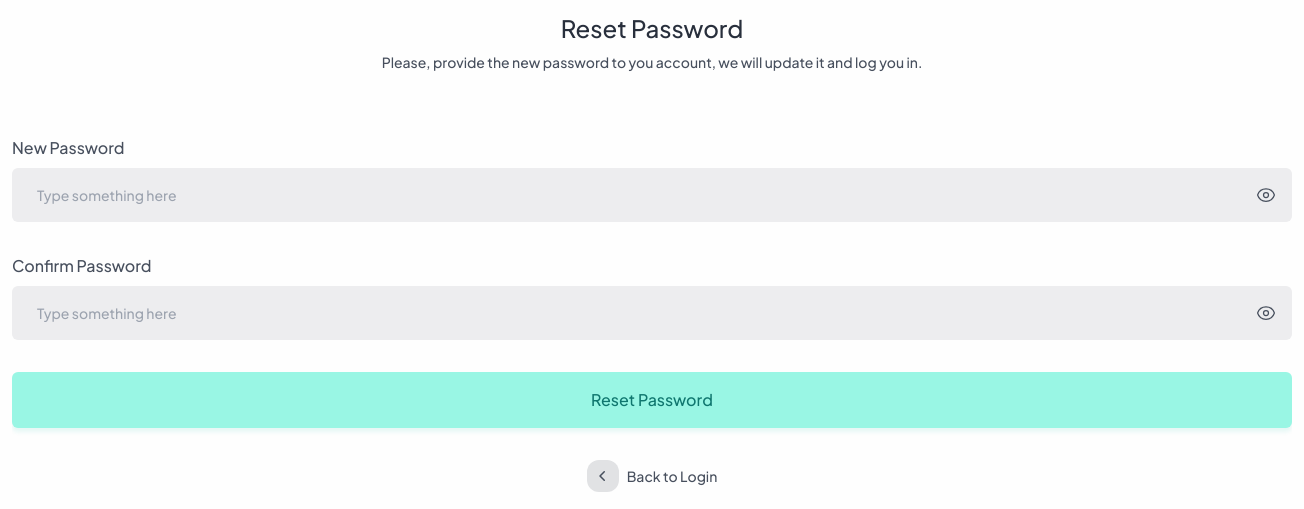
Scenario: Rendering › should render the success component after successfull form submission
Type "password123" into the password field labelled "New Password" at point(652, 195), box [12, 168, 1292, 222]
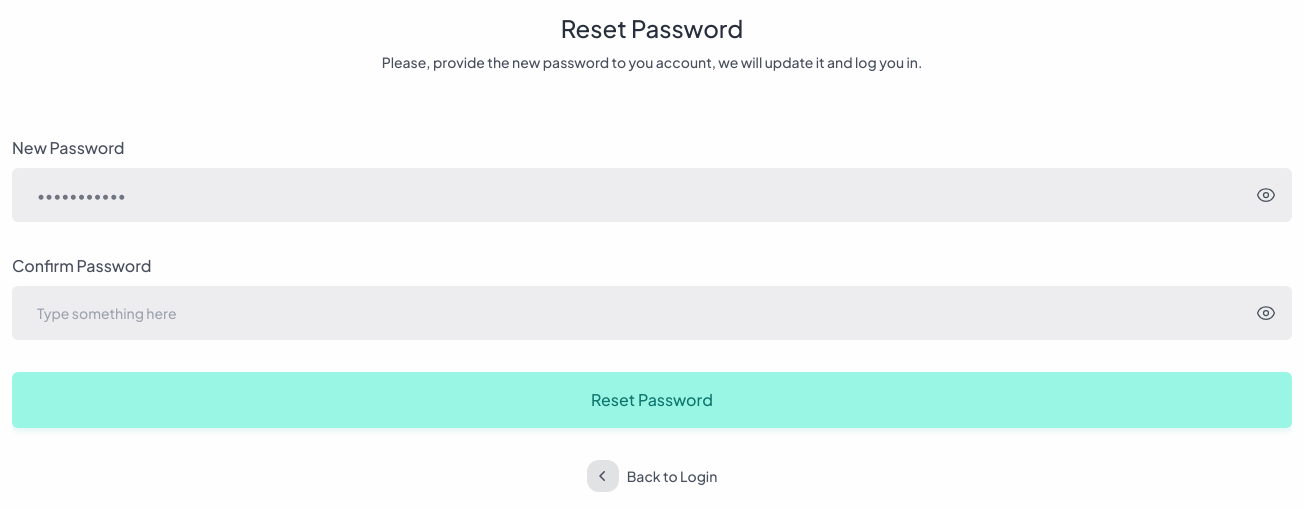
Type "password123" into the password field labelled "Confirm Password" at point(652, 313), box [12, 286, 1292, 340]
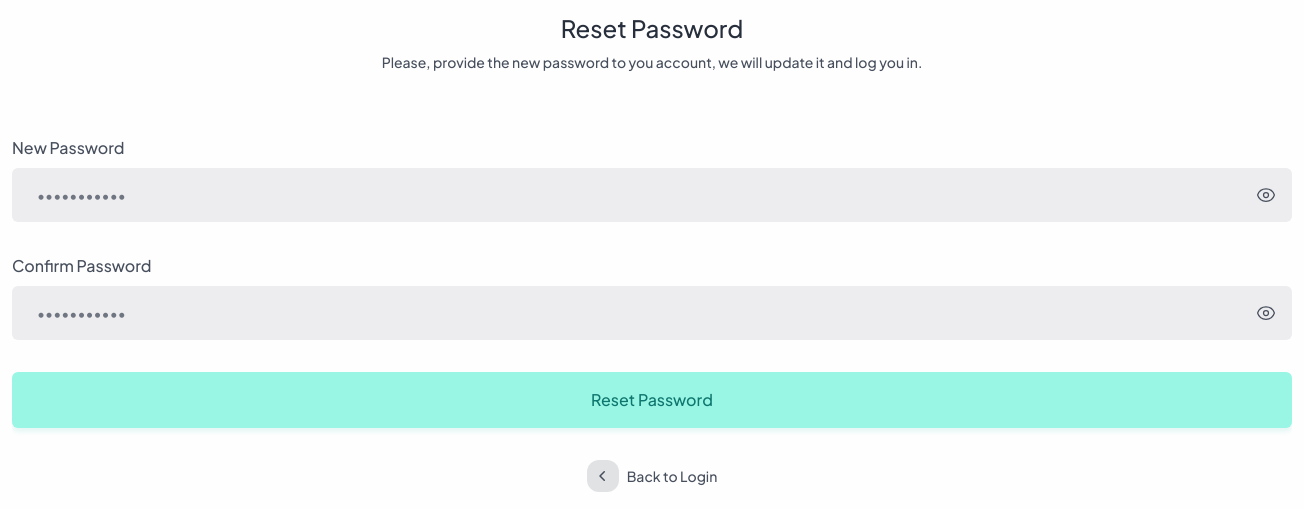
Click the button "Reset Password" at point(652, 400), box [12, 372, 1292, 428]
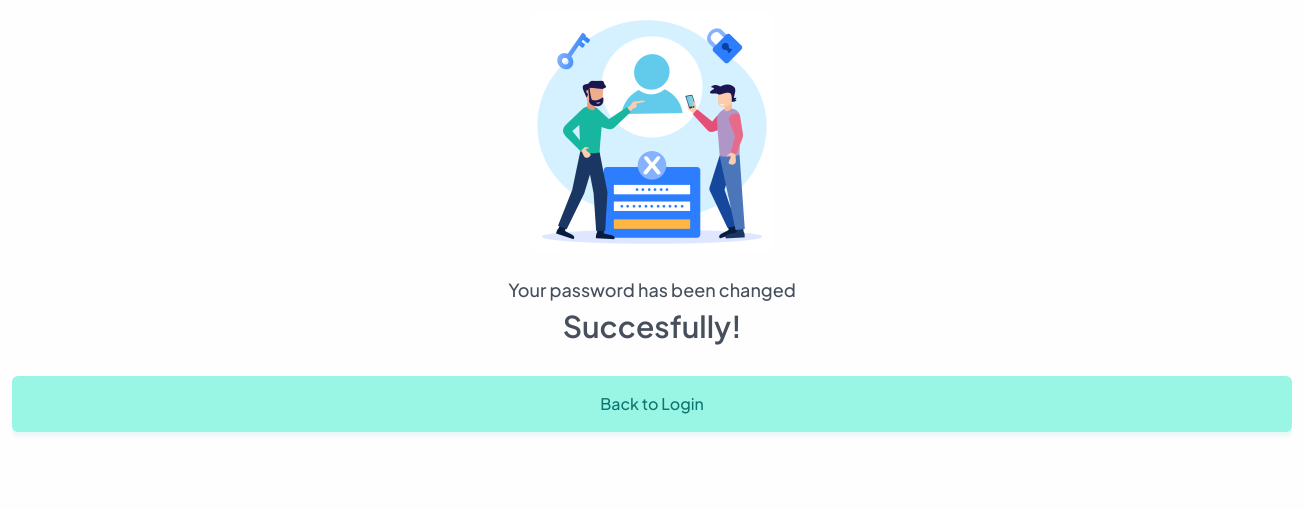
Expected: the text "Your password has been changed" is shown, [508, 276, 796, 304]
